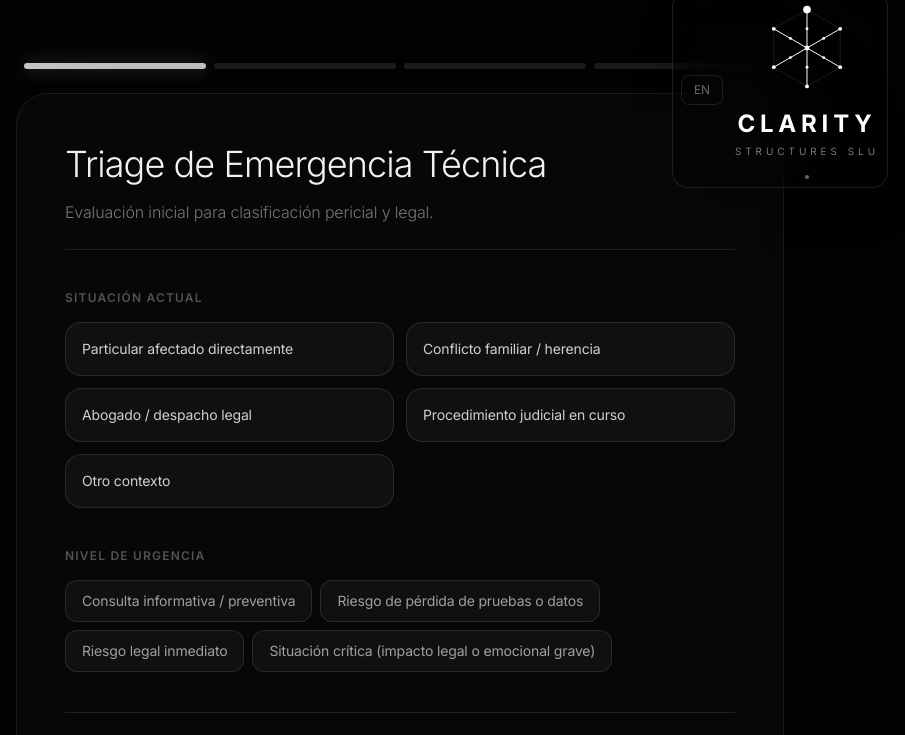
Wizard › should enable next button when profile and urgency are selected
The width and height of the screenshot is (905, 735).
Click the radio button "Particular afectado directamente".
click(230, 349)  # box 65,322 -> 394,376
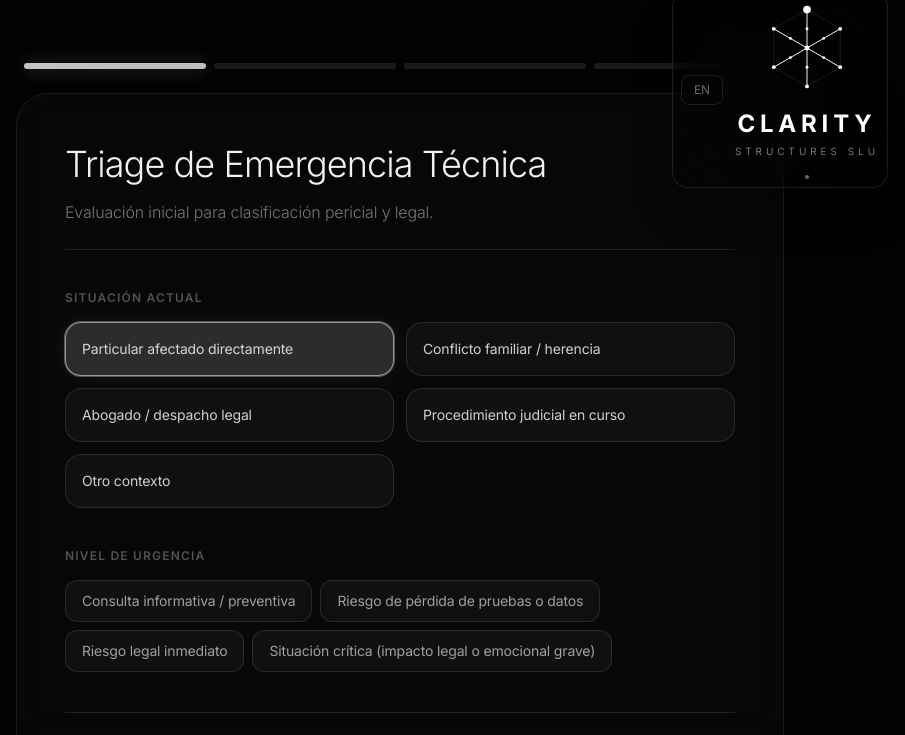
Click the radio button "Consulta informativa / preventiva".
click(189, 601)  # box 65,580 -> 312,622
(page scrolled)
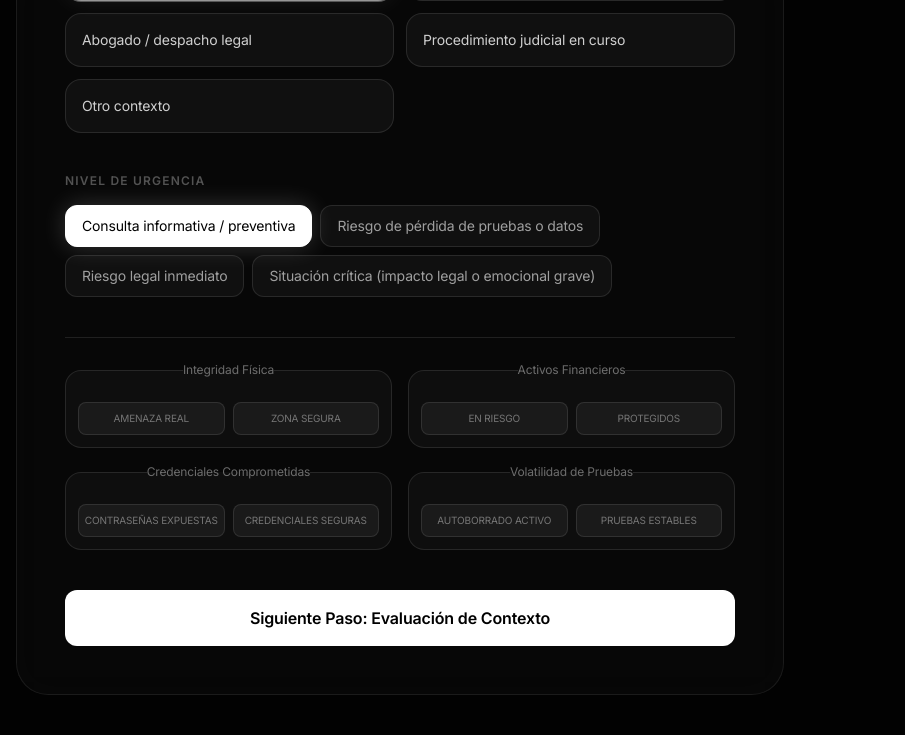
Check: the button "Siguiente Paso: Evaluación de Contexto" is enabled, box 65,590 -> 735,646
